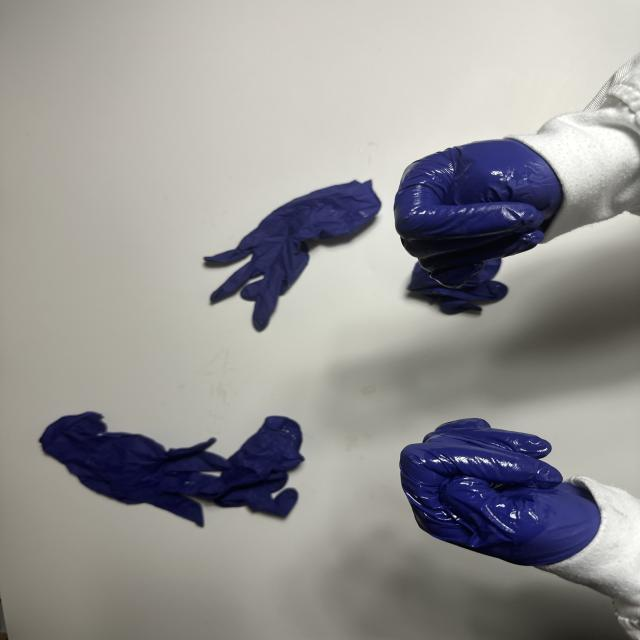gloves_contaminated: (400, 419, 600, 565), (394, 139, 563, 288)
